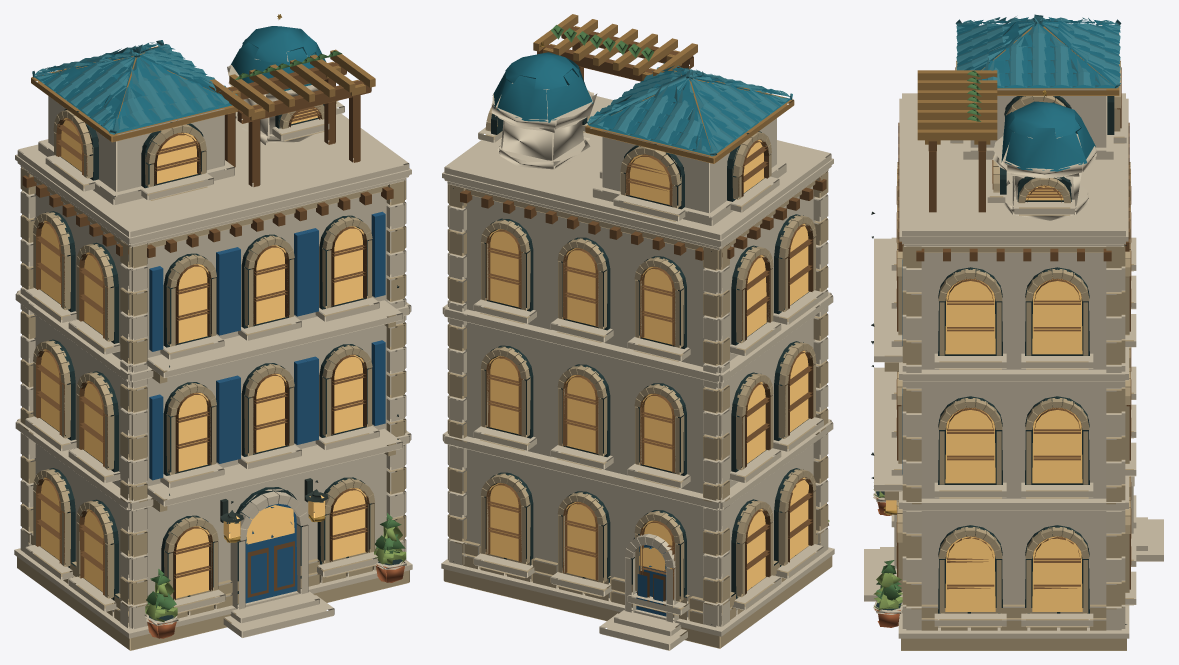
3 renders of one model, left to right at view 1: azimuth 30°, elevation 25°; view 2: azimuth 150°, elevation 25°; view 3: azimuth 270°, elevation 25°, orthographic.
Parts seen in each view (by area): view 1: harbor_villa_3_geometry; view 2: harbor_villa_3_geometry; view 3: harbor_villa_3_geometry.
Part boxes in pixels (x1,y1,x2,y2): harbor_villa_3_geometry: [14, 14, 412, 650]; harbor_villa_3_geometry: [441, 14, 834, 650]; harbor_villa_3_geometry: [864, 14, 1163, 650].
Size of the model in its own units: 0.99 by 1.7 by 0.8667.
